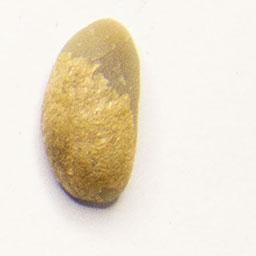longberry: (38, 14, 144, 208)
